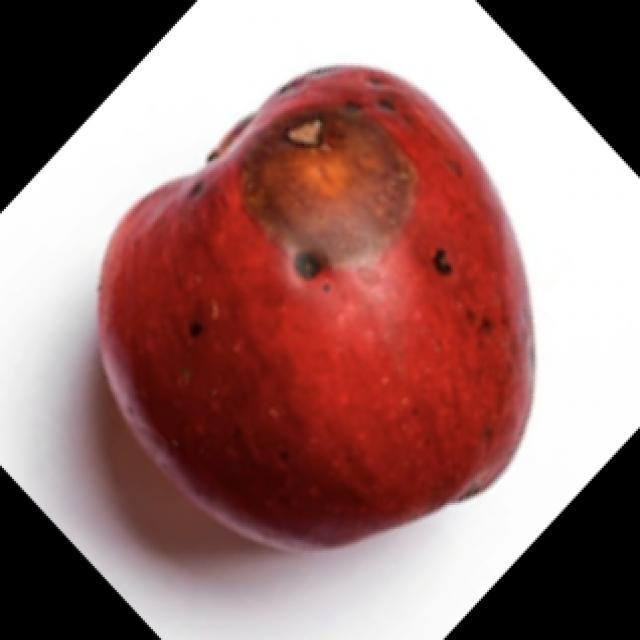Rotten: (67, 53, 533, 587)
